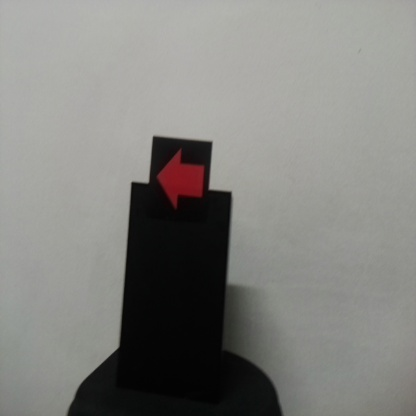id_4: (152, 137, 210, 220)
